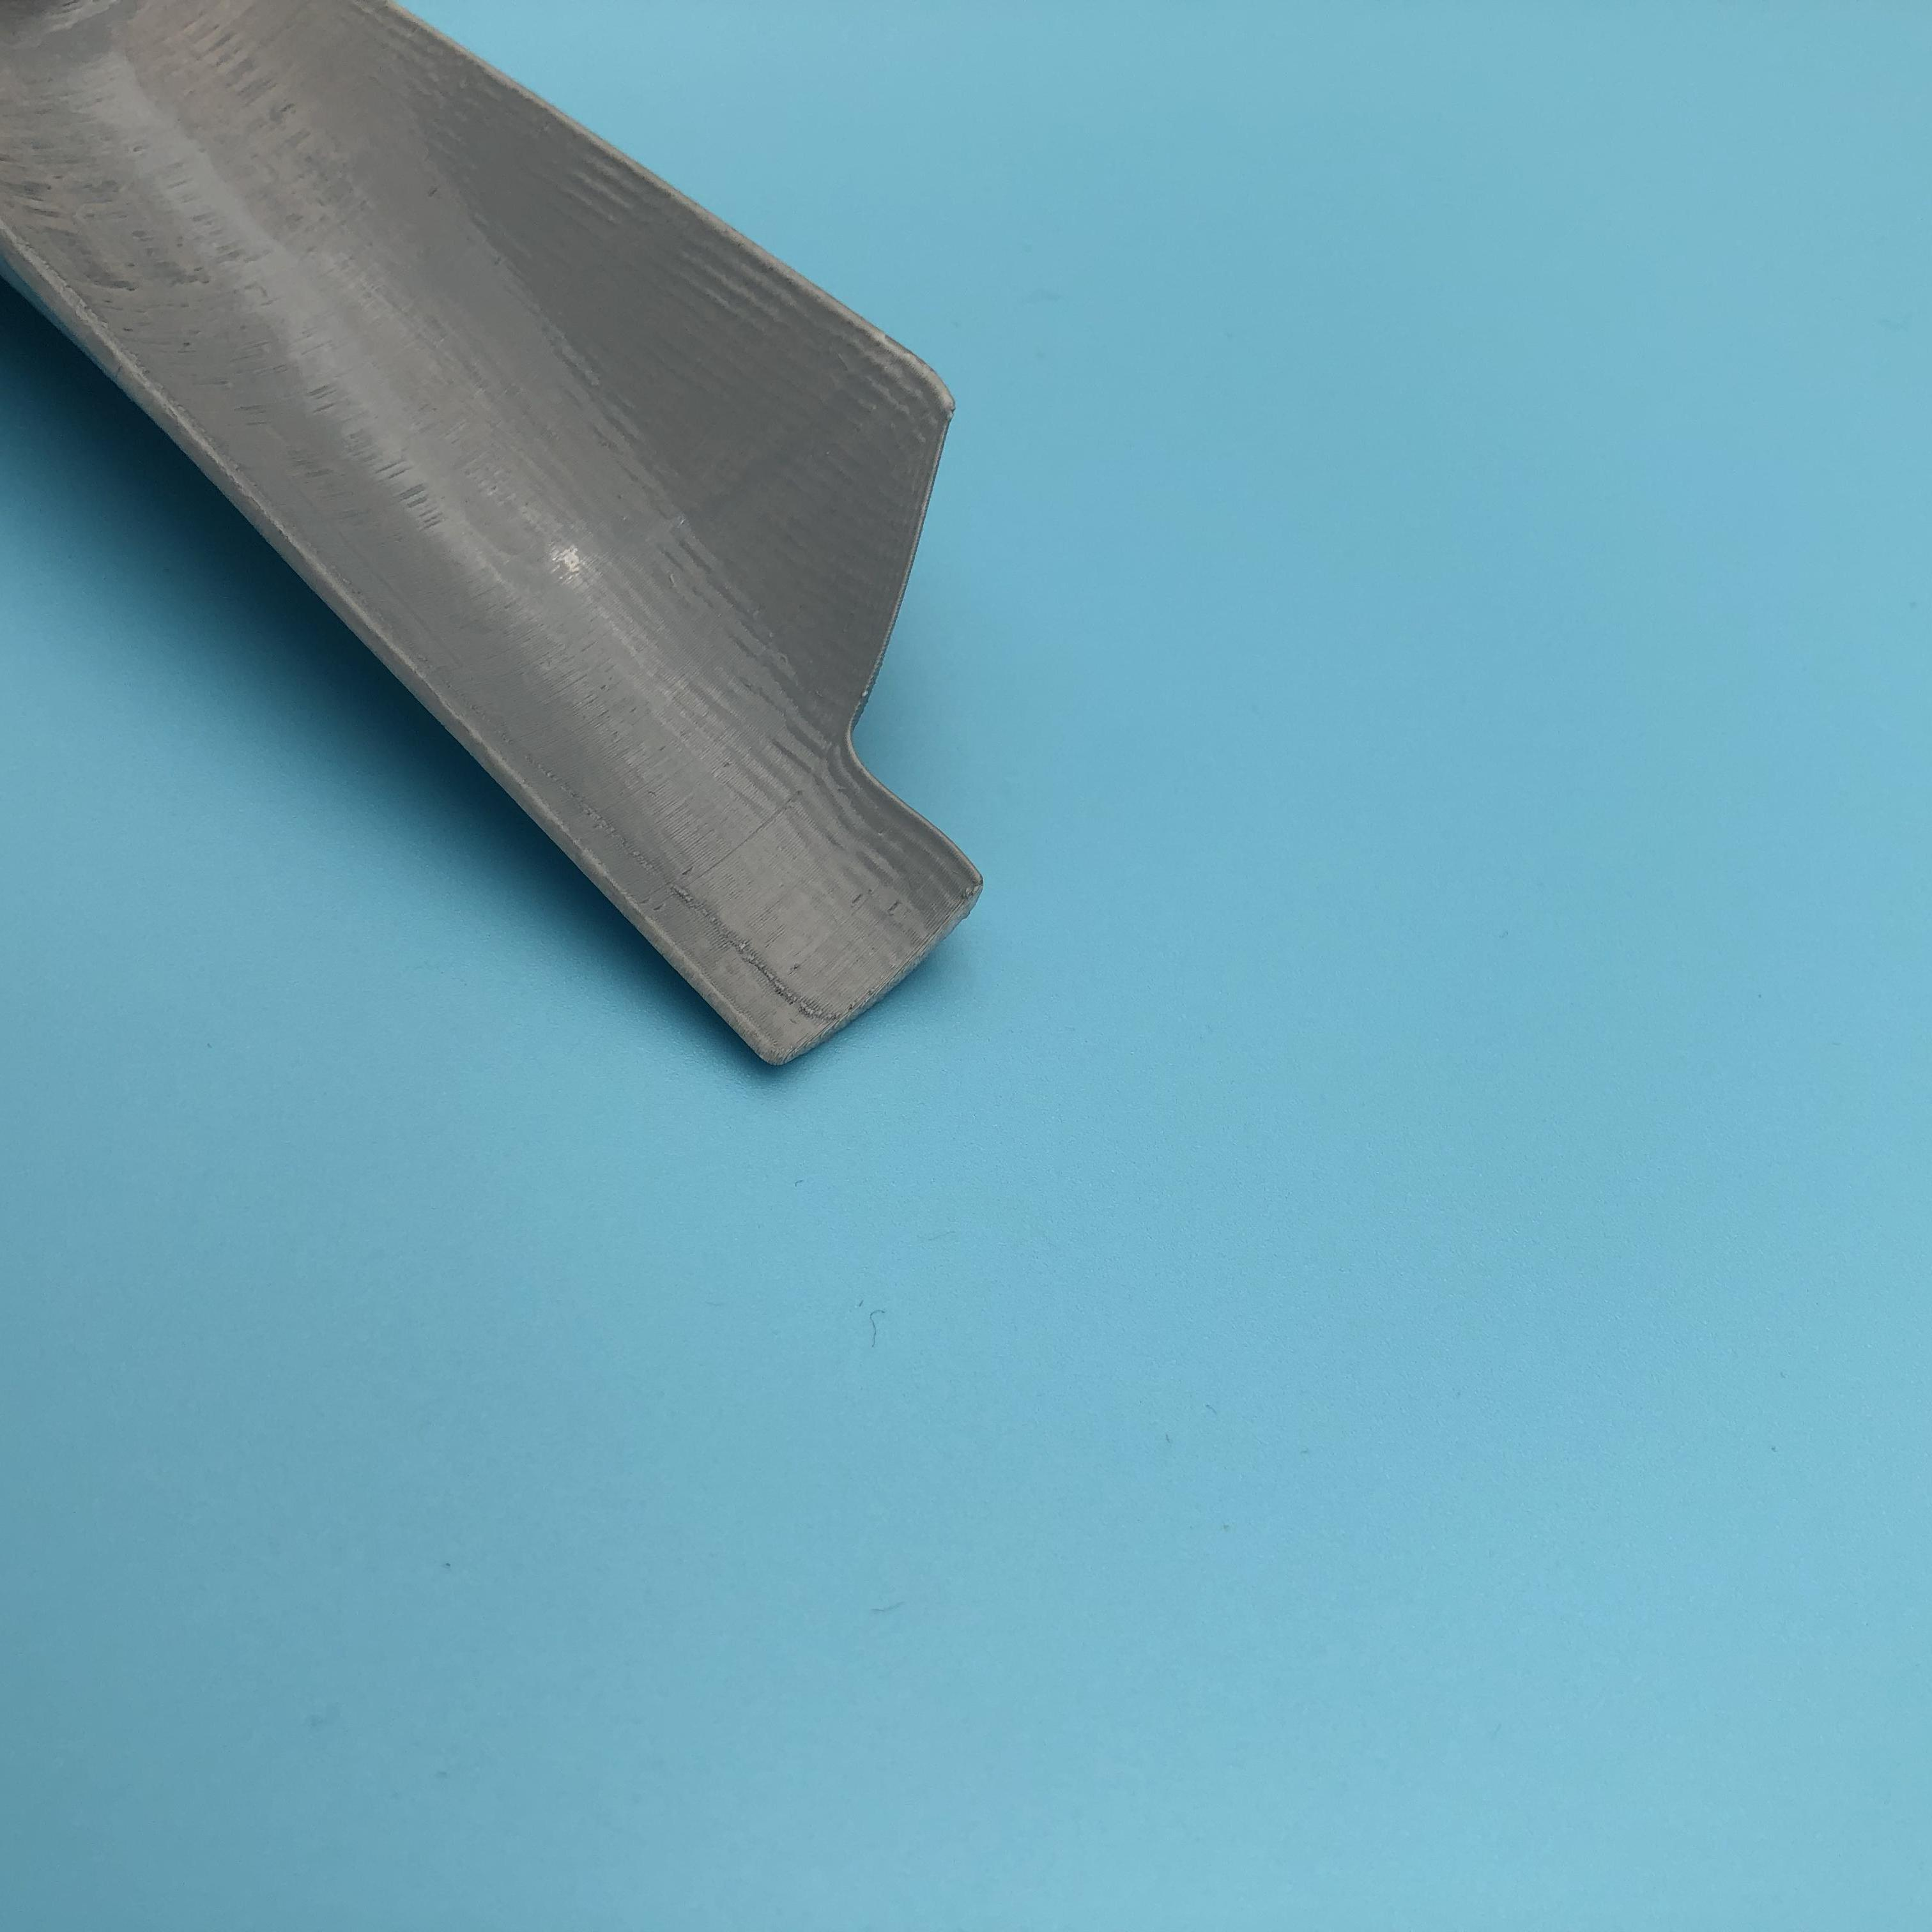fracture: (835, 469, 1023, 904)
